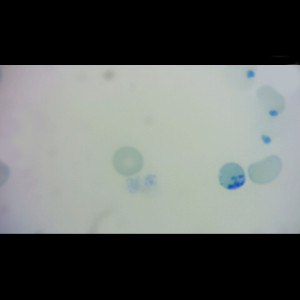aggregate reticulocyte: (217, 161, 247, 191)
erythrocyte: (247, 153, 284, 186), (254, 84, 288, 118), (112, 145, 145, 178)
